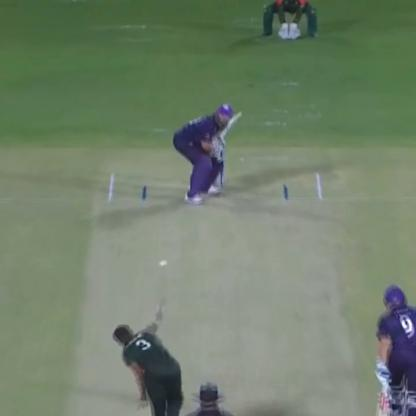ball: (151, 257, 171, 272)
bat: (210, 98, 246, 148), (371, 358, 397, 415)
pitch: (61, 160, 363, 416)
